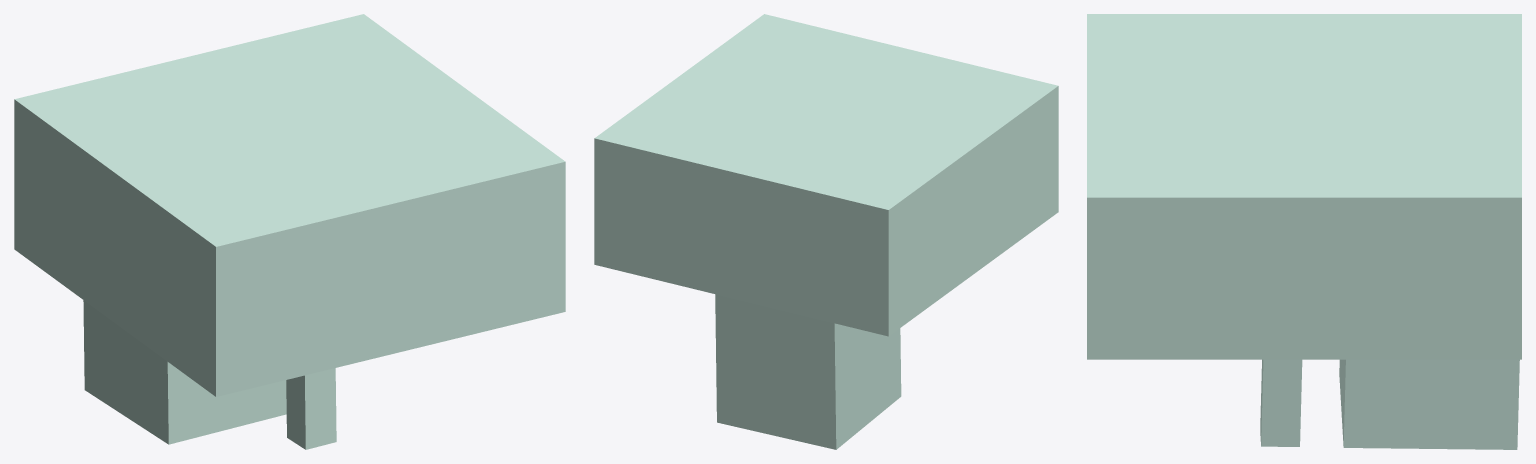
3 views of the same model, side by side, from view 1: azimuth 30°, elevation 25°; view 2: azimuth 150°, elevation 25°; view 3: azimuth 270°, elevation 25° (orthographic). The views are drawn at different scales.
Visible parts, largest first — view 1: Renderer Node; view 2: Renderer Node; view 3: Renderer Node.
Part boxes in pixels (x1,y1,x2,y2): Renderer Node: (14, 14, 565, 449); Renderer Node: (594, 14, 1058, 449); Renderer Node: (1087, 14, 1521, 449).
Bounding box in the file's own units: 1.48 × 1.23 × 1.48.
